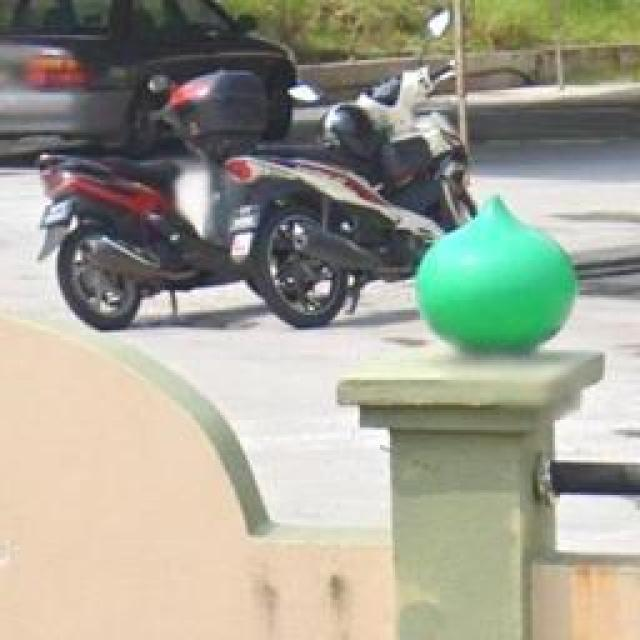motorcycle: (222, 20, 478, 328), (38, 72, 268, 330)
